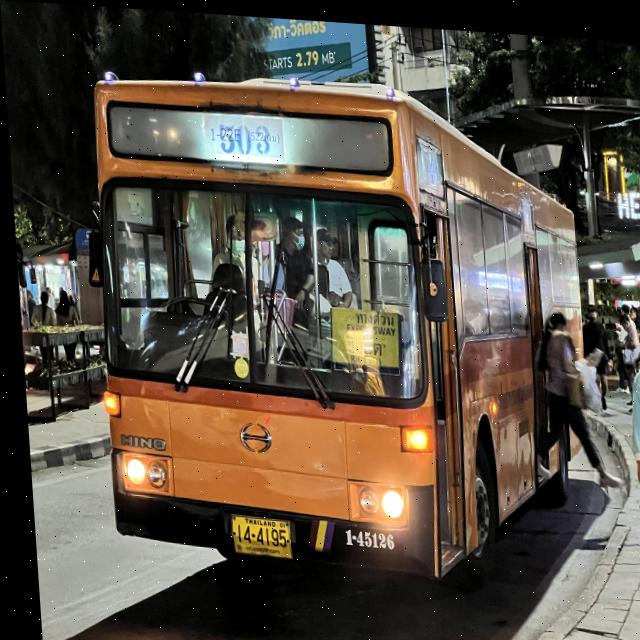BMTA-bus: (71, 52, 603, 600)
Bus Line Number: (197, 108, 286, 157)
Bus Side Number: (331, 517, 396, 555)
Destination Sign: (325, 299, 397, 368)
